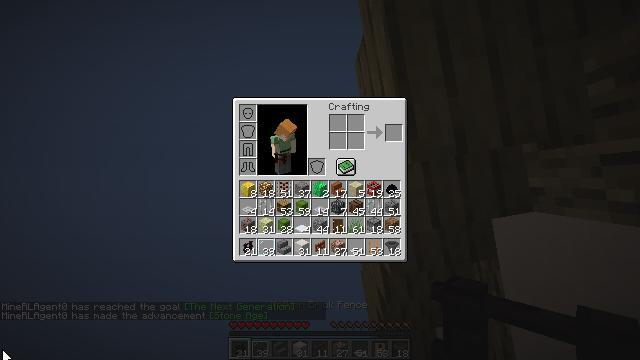cursor: (349, 2, 365, 12)
